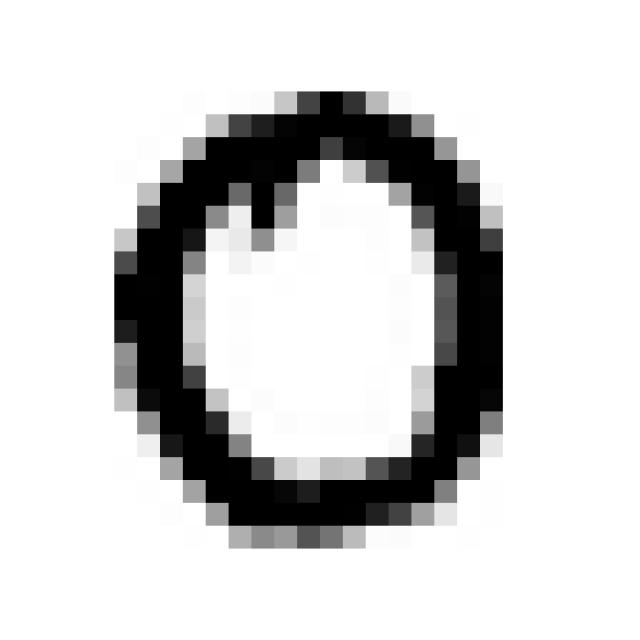5 -five-: (84, 73, 524, 554)
